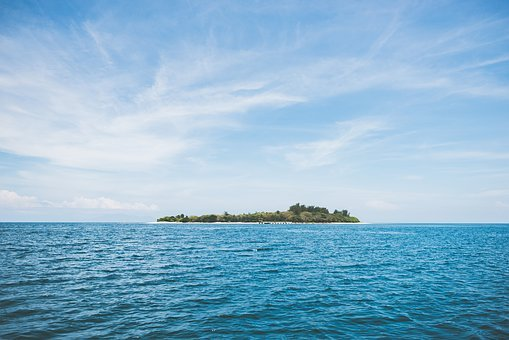mountain: (161, 205, 360, 224)
sea: (1, 221, 509, 337)
sky: (3, 1, 505, 213)
